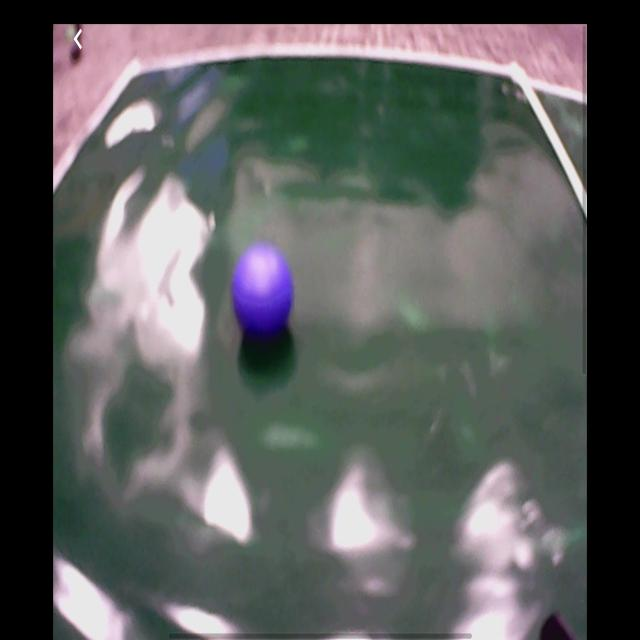ball: (232, 245, 296, 336)
